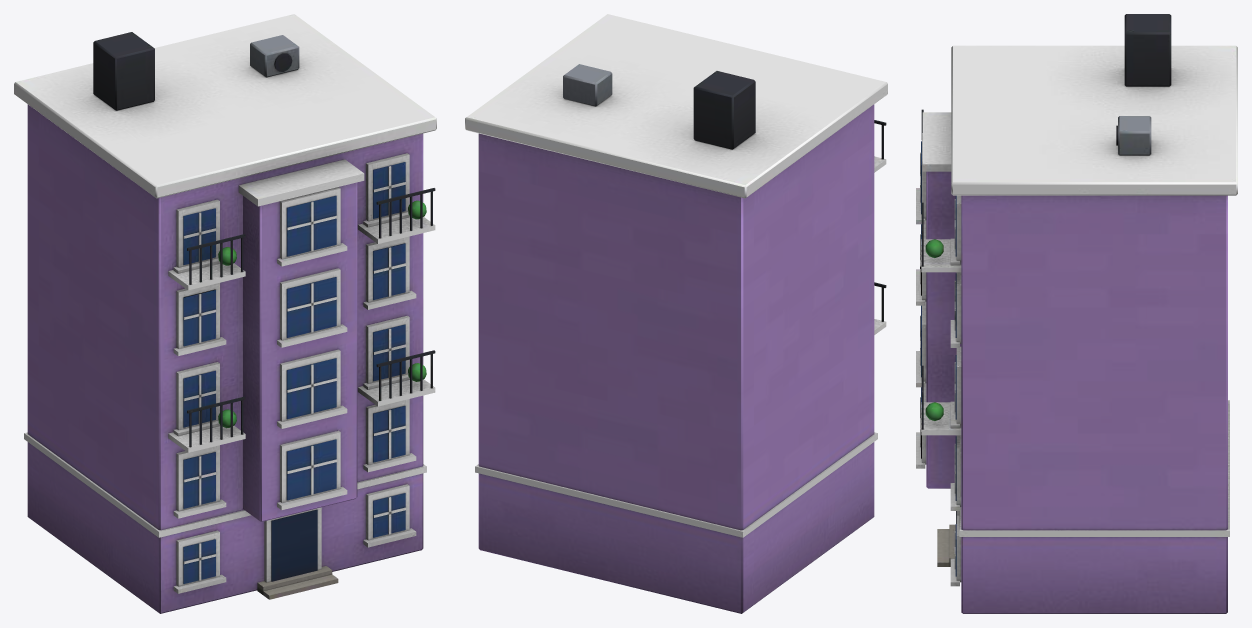
File: apart_morado.glb
The picture shows the model from 3 angles, left to right: view 1: azimuth 30°, elevation 25°; view 2: azimuth 150°, elevation 25°; view 3: azimuth 270°, elevation 25°; orthographic projection.
Parts seen in each view (by area): view 1: apart_morado; view 2: apart_morado; view 3: apart_morado.
Boxes of the visible parts, x1=… form: apart_morado: x1=14, y1=14, x2=436, y2=613; apart_morado: x1=465, y1=14, x2=887, y2=613; apart_morado: x1=916, y1=14, x2=1237, y2=613.
Size of the model in its own units: 4.9 by 8.12 by 4.83.
Materials: 1 (1 with a texture image).
